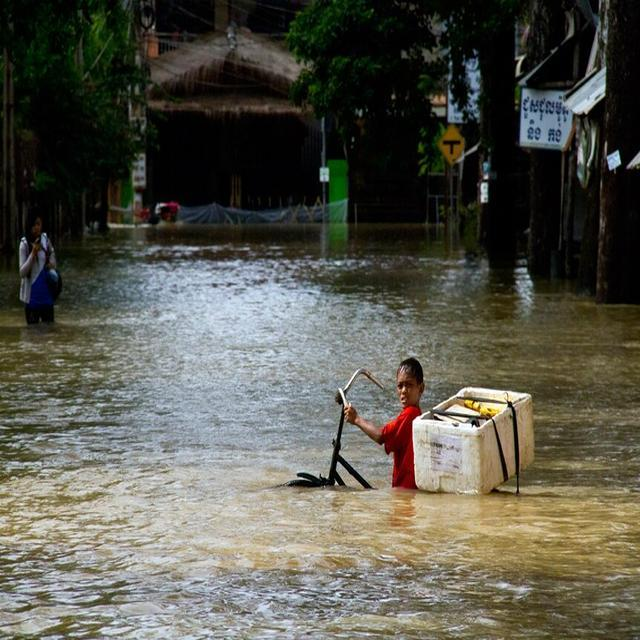Person-RiskLevel2: (3, 206, 81, 328)
Person-RiskLevel3: (334, 356, 546, 510)
